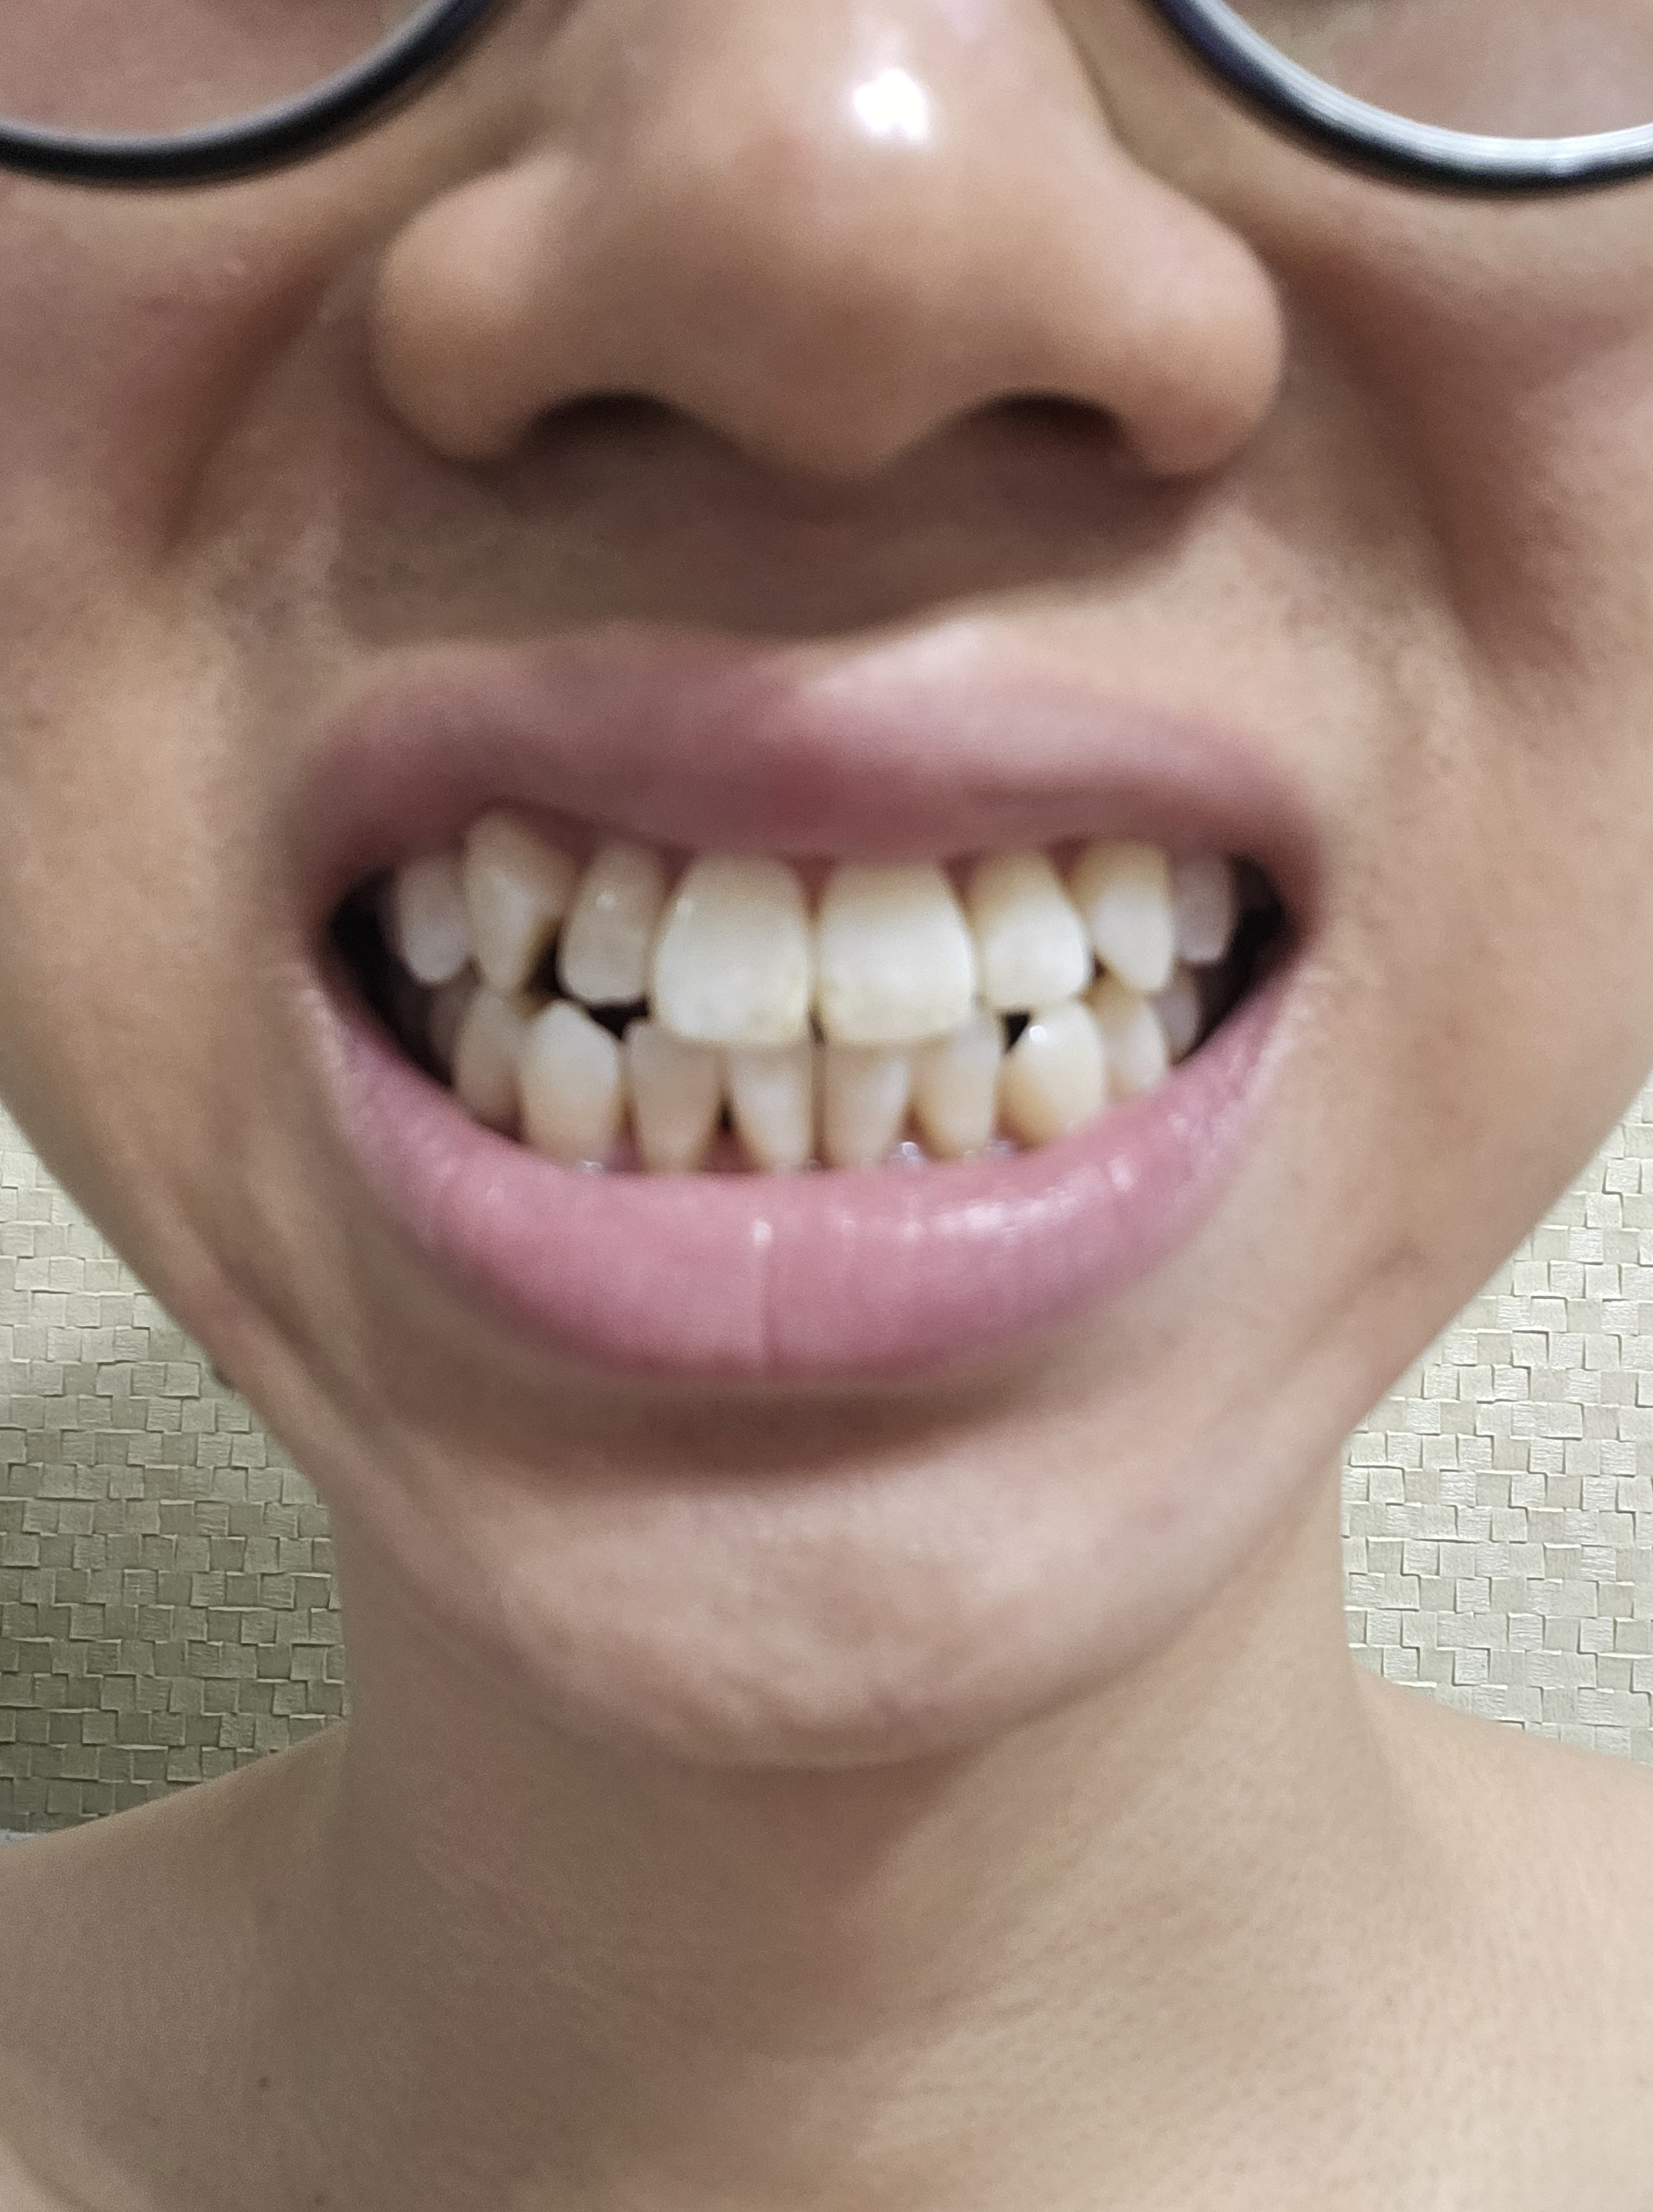teeth: (655, 863, 806, 1045), (820, 870, 971, 1042), (458, 820, 571, 1014), (981, 858, 1094, 1016), (1078, 846, 1176, 997), (523, 1000, 608, 1170), (1009, 1002, 1111, 1139), (570, 849, 655, 1005), (826, 1049, 910, 1182), (726, 1050, 813, 1167), (929, 1021, 1002, 1158), (392, 861, 474, 976), (641, 1047, 715, 1167)
